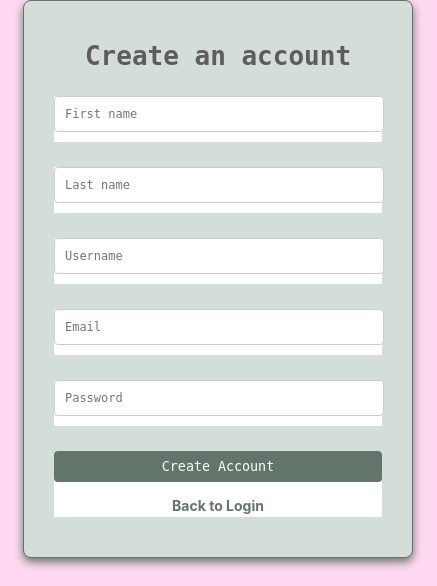
CreateAccount Component › shows validation errors when form is submitted empty
Click the button "Create Account" at (218, 466), box [54,451,382,482]
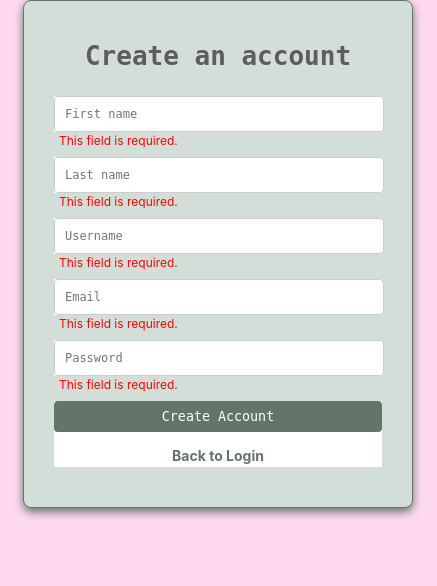
Check: the text "This field is required." is shown 5 times, box [59,133,178,148]; [59,194,178,209]; [59,255,178,270]; [59,316,178,331]; [59,377,178,392]
